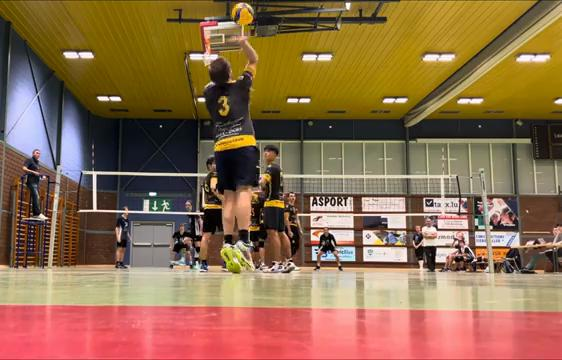Player: (260, 145, 295, 271), (199, 156, 222, 271), (284, 192, 302, 271), (315, 227, 342, 270), (250, 192, 265, 269), (170, 224, 194, 268), (115, 206, 130, 268), (186, 214, 202, 264)
Serve: (190, 30, 265, 270)
ball: (231, 4, 254, 27)
